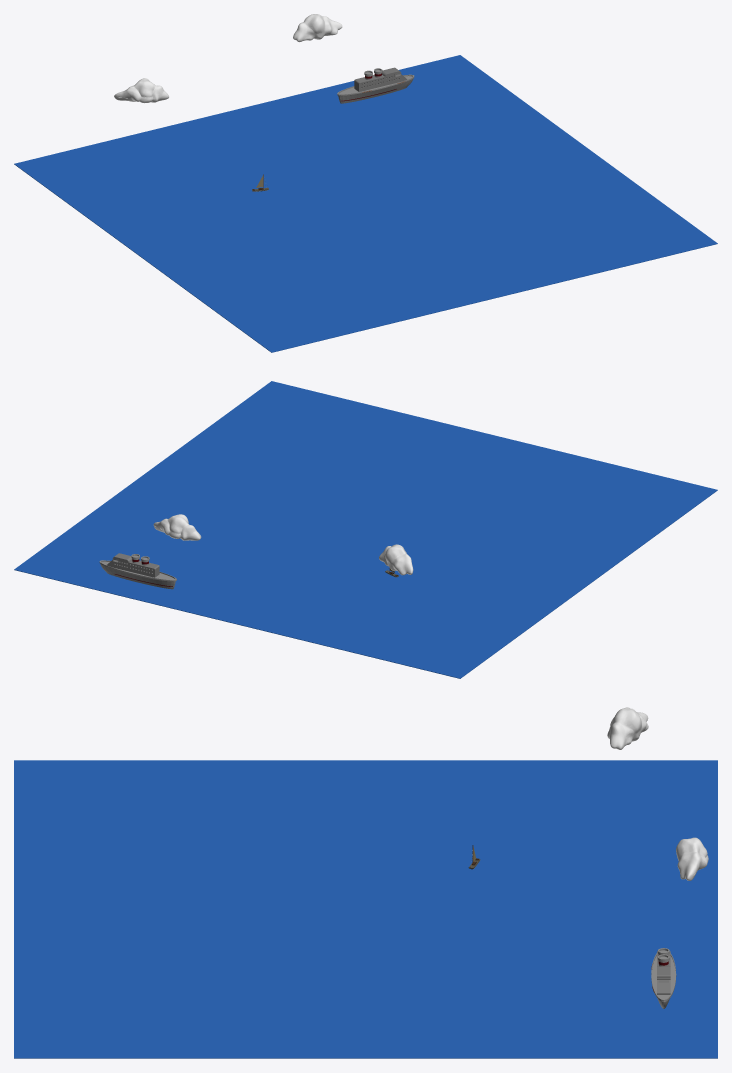
3 views of the same model, one above another, from view 1: azimuth 30°, elevation 25°; view 2: azimuth 150°, elevation 25°; view 3: azimuth 270°, elevation 25° (orthographic). The views are drawn at different scales.
Parts seen in each view (by area): view 1: Sea, Layer_1, Layer_1.001, Base, Quarters; view 2: Sea, Base, Layer_1, Layer_1.001, Quarters; view 3: Sea, Layer_1.001, Layer_1.
Part boxes in pixels (left/top/right/bottom): Sea: left=14, top=55, right=717, bottom=352; Layer_1: left=293, top=14, right=342, bottom=42; Layer_1.001: left=114, top=78, right=168, bottom=103; Base: left=337, top=74, right=414, bottom=103; Quarters: left=354, top=67, right=407, bottom=91; Sea: left=14, top=381, right=717, bottom=678; Base: left=99, top=560, right=176, bottom=589; Layer_1: left=153, top=514, right=201, bottom=540; Layer_1.001: left=379, top=544, right=413, bottom=575; Quarters: left=107, top=553, right=159, bottom=577; Sea: left=14, top=760, right=717, bottom=1058; Layer_1.001: left=607, top=707, right=648, bottom=749; Layer_1: left=676, top=837, right=708, bottom=880.
Size of the model in its own units: 200 by 37.46 by 200.
